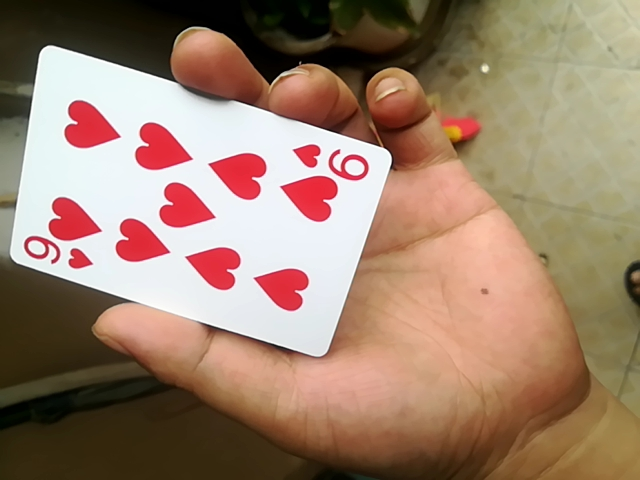hx 9: (9, 47, 390, 358)
